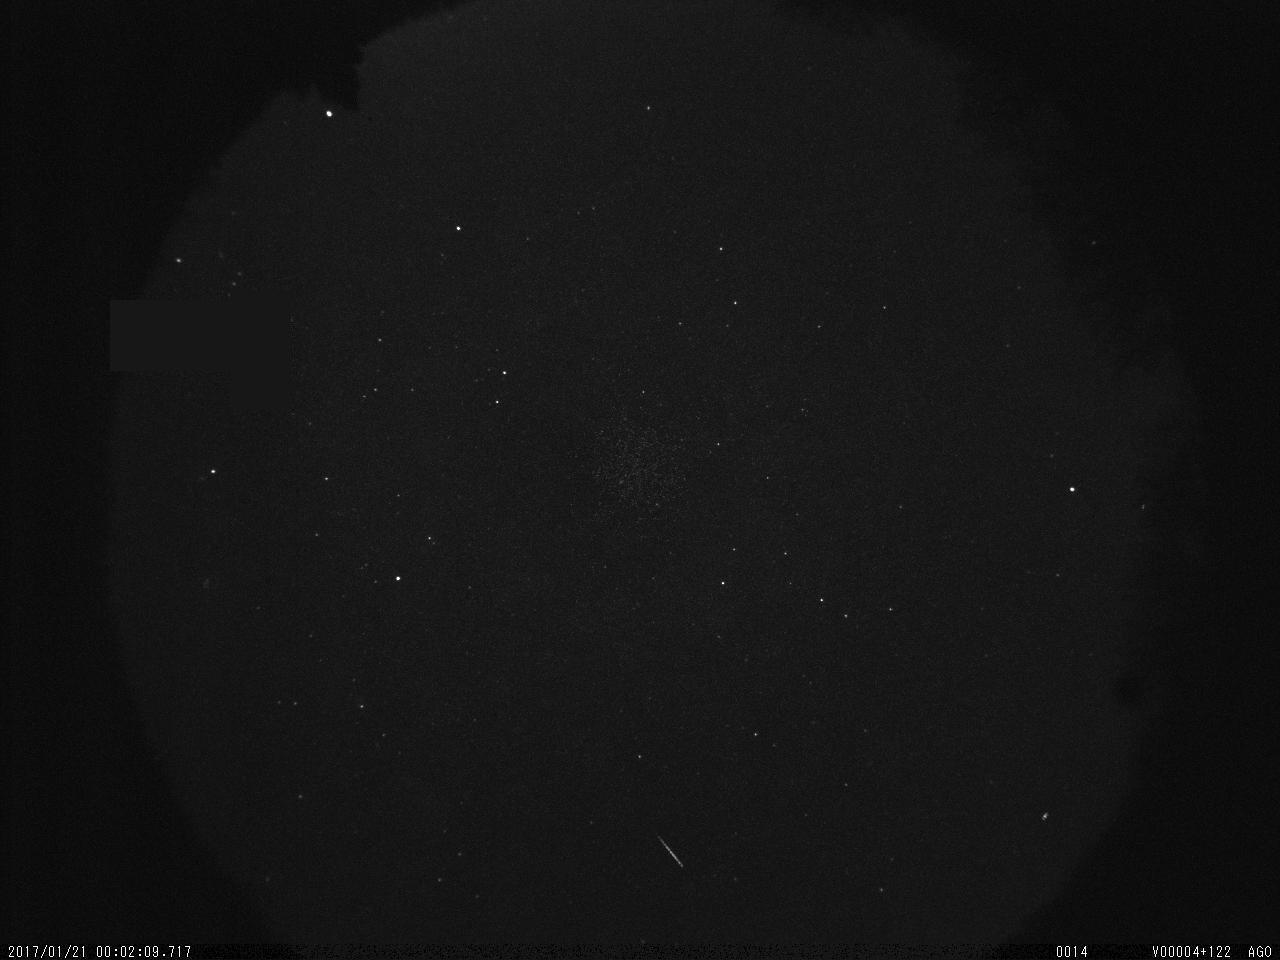meteor: (632, 822, 712, 879)
